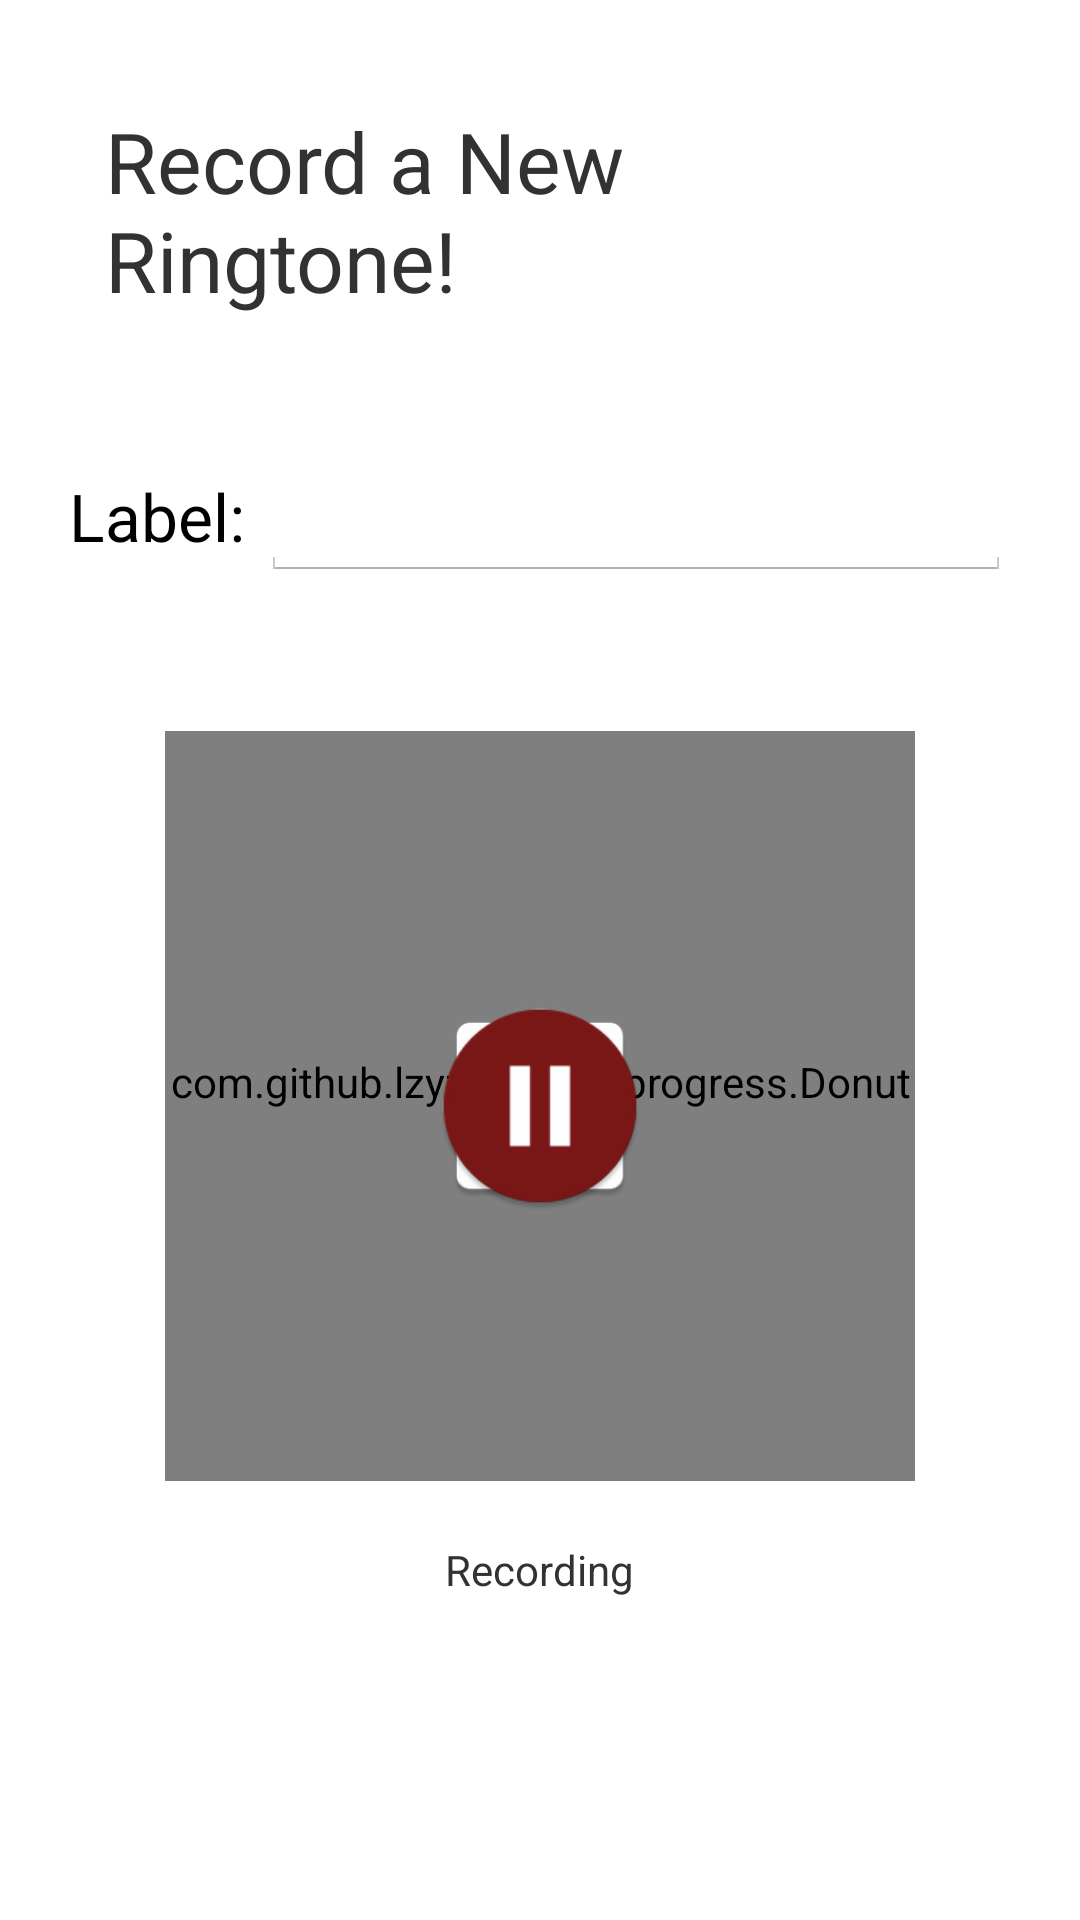

Icon click points for this 1080 x 1920 phone screenshot, format (x=x, y=y):
pause: (x=544, y=1106)
